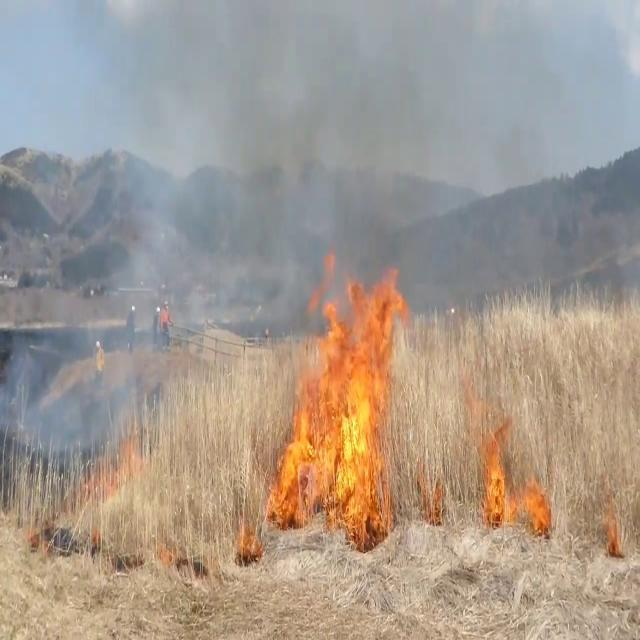Fire: (273, 247, 412, 528), (478, 422, 550, 532)
Smoke: (8, 1, 400, 404)
